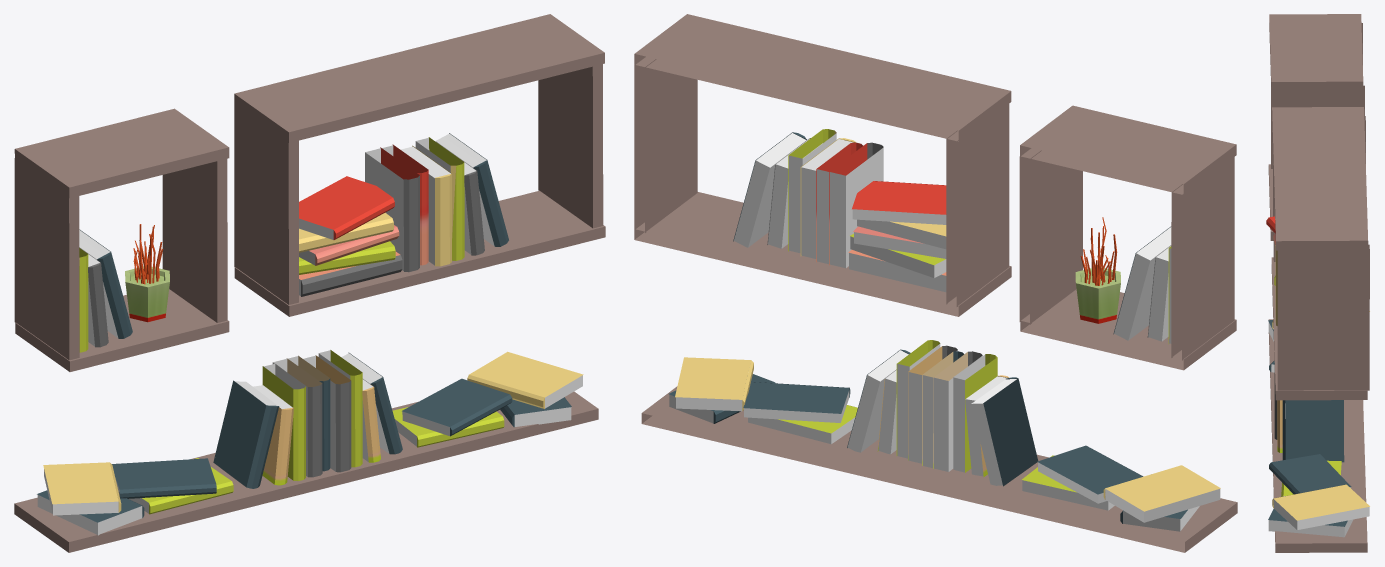
The model's file is BookShelf3.fbx.
The picture shows the model from 3 angles, left to right: view 1: azimuth 30°, elevation 25°; view 2: azimuth 150°, elevation 25°; view 3: azimuth 270°, elevation 25°; orthographic projection. The views are drawn at different scales.
Visible parts, largest first — view 1: BookShelf3; view 2: BookShelf3; view 3: BookShelf3.
Boxes of the visible parts, left/top/right/bottom form: BookShelf3: left=14, top=14, right=605, bottom=552; BookShelf3: left=634, top=14, right=1237, bottom=552; BookShelf3: left=1266, top=14, right=1369, bottom=552.
Bounding box in the file's own units: 59.3 × 38.2 × 11.44.
